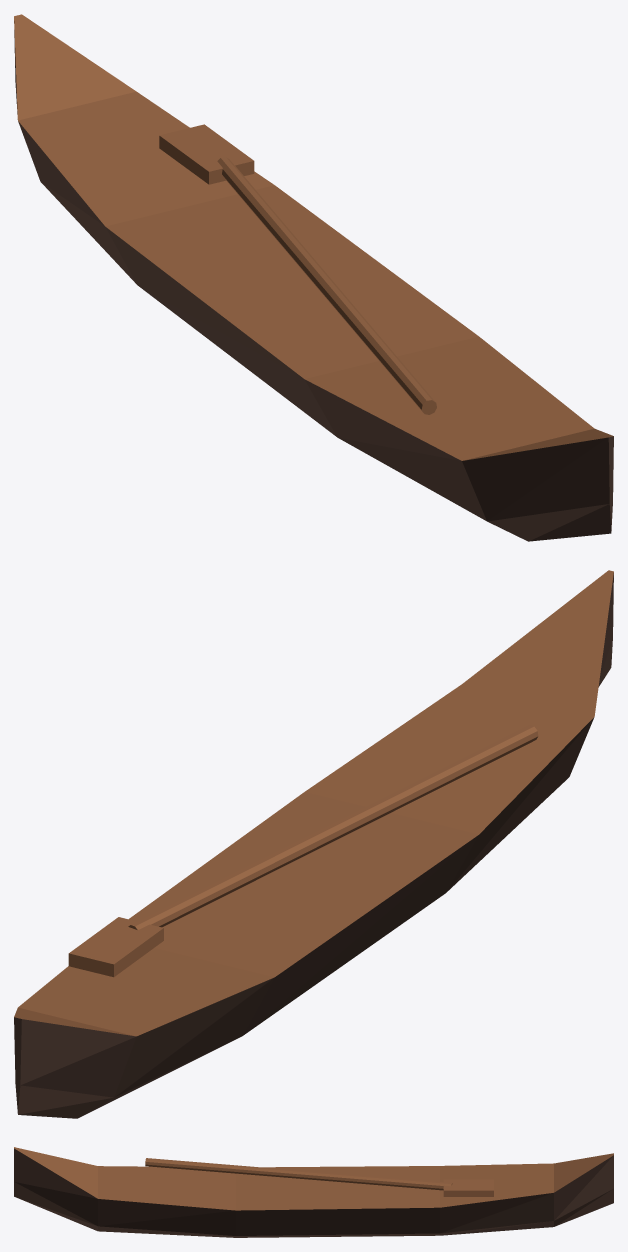
Rendered from 021_dugout_canoe.glb.
3 views of the same model, one above another, from view 1: azimuth 30°, elevation 25°; view 2: azimuth 150°, elevation 25°; view 3: azimuth 270°, elevation 25° (orthographic). The views are drawn at different scales.
Parts seen in each view (by area): view 1: Dugout canoe; view 2: Dugout canoe; view 3: Dugout canoe.
Part boxes in pixels (x1,y1,x2,y2): Dugout canoe: [14, 14, 613, 541]; Dugout canoe: [14, 570, 613, 1118]; Dugout canoe: [14, 1147, 613, 1237].
Size of the model in its own units: 0.85 by 0.83 by 5.
